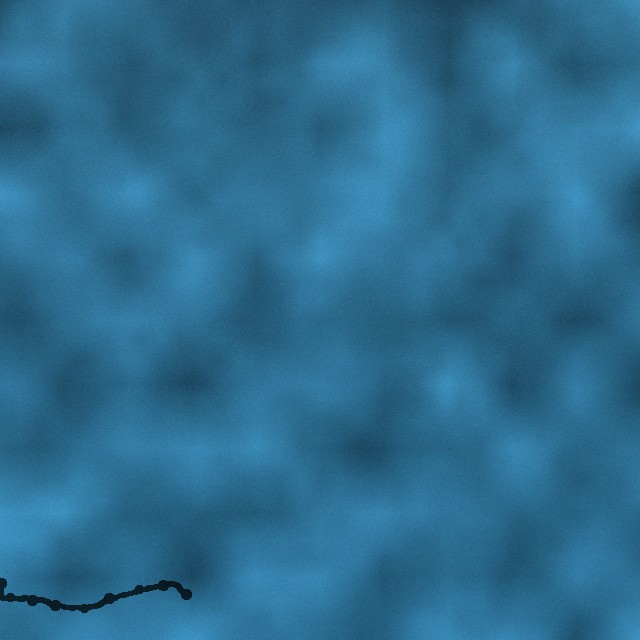crack: (0, 576, 191, 613)
